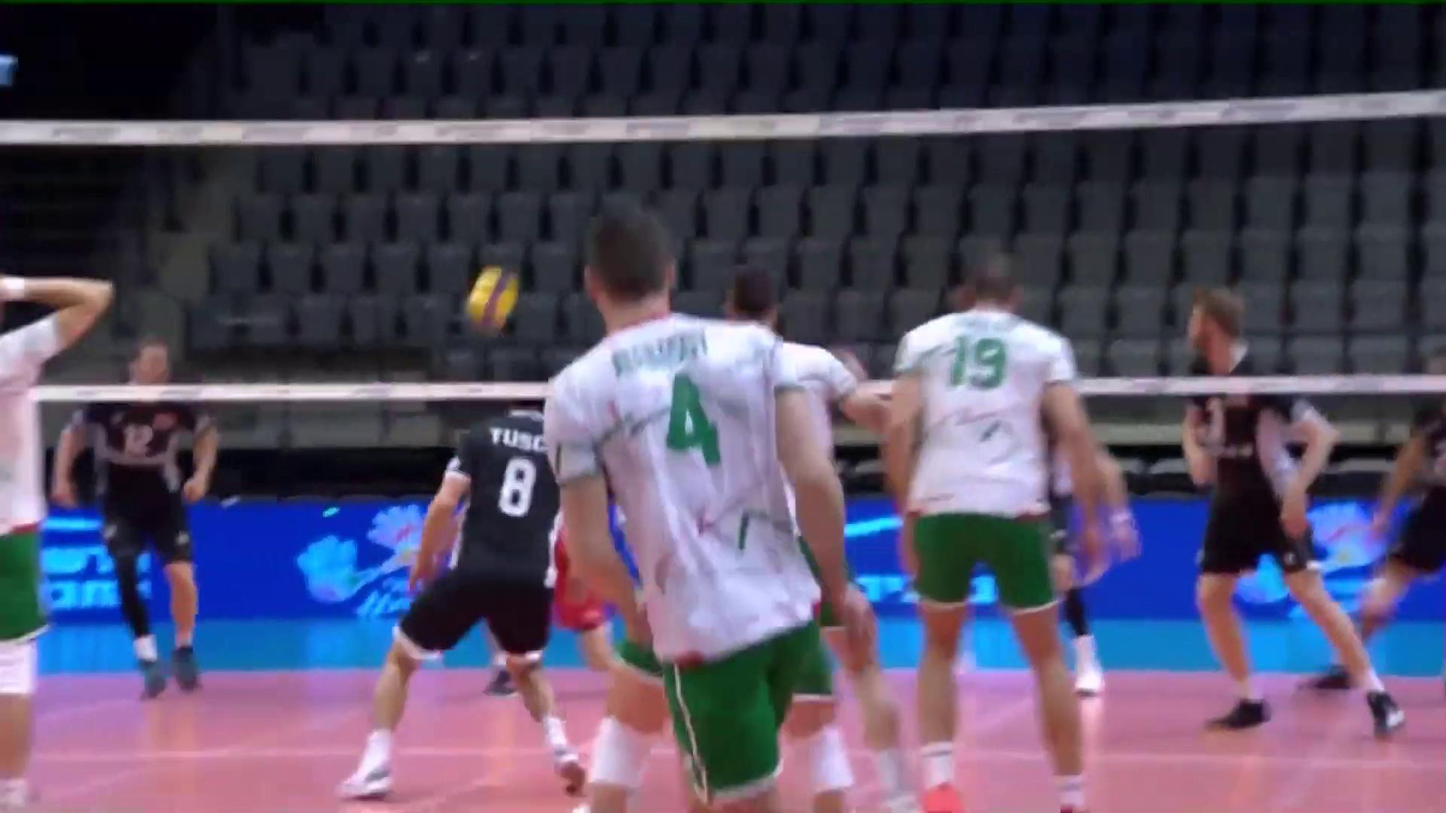ball: (459, 262, 521, 333)
